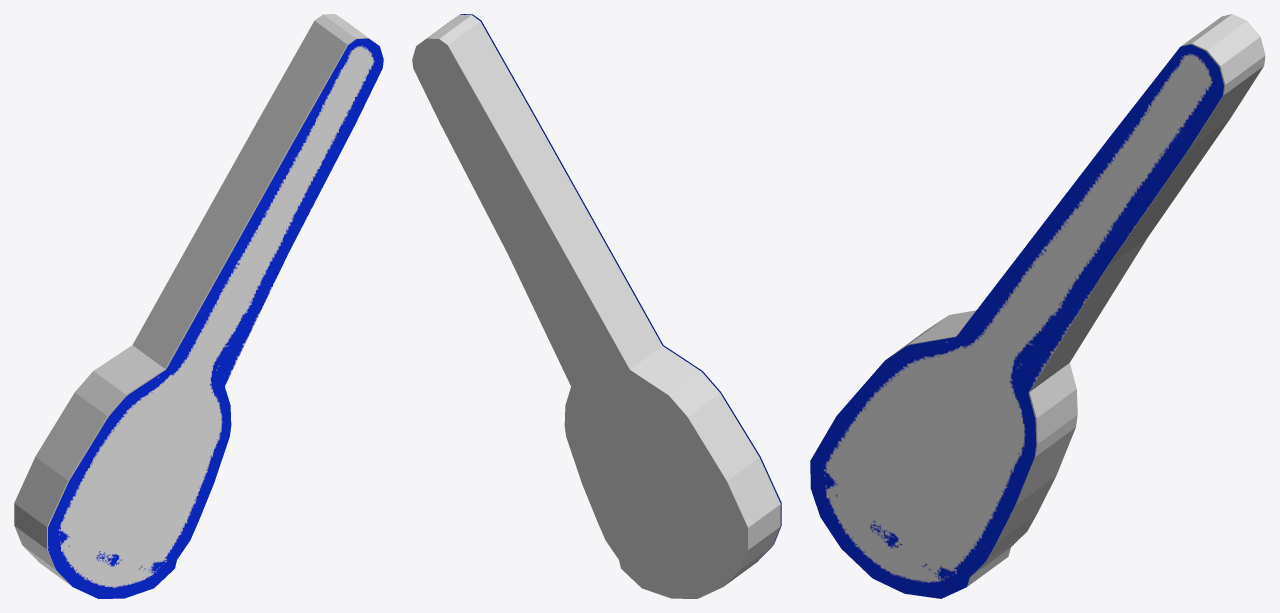
3 renders of one model, left to right at view 1: azimuth 30°, elevation 25°; view 2: azimuth 150°, elevation 25°; view 3: azimuth 330°, elevation 25°, orthographic. The views are drawn at different scales.
Visible parts, largest first — view 1: In_4_1, In_4_0; view 2: In_4_0, In_4_1; view 3: In_4_1, In_4_0.
Part boxes in pixels (x1,y1,x2,y2): In_4_1: [48, 38, 383, 598]; In_4_0: [14, 14, 376, 585]; In_4_0: [412, 14, 780, 598]; In_4_1: [460, 14, 781, 561]; In_4_1: [810, 44, 1223, 598]; In_4_0: [889, 14, 1265, 586].
Bounding box in the file's own units: 2.97 × 4.24 × 0.515.
Materials: 2 (1 with a texture image).
